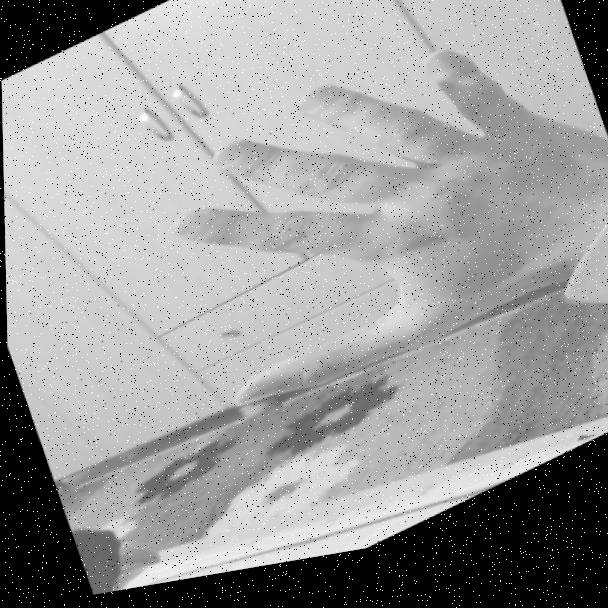five: (99, 0, 608, 469)
